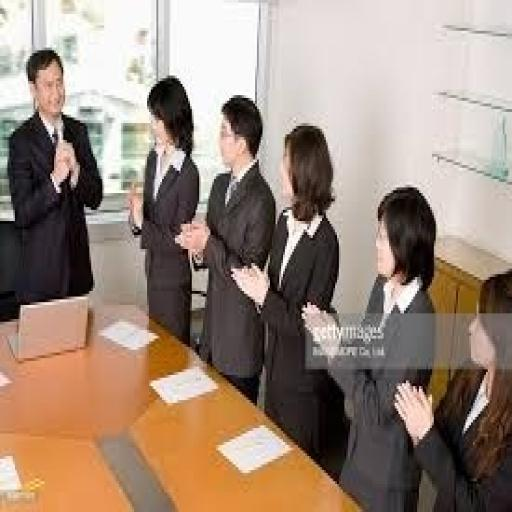clapping: (218, 169, 444, 453), (406, 132, 512, 512), (229, 120, 341, 456), (173, 92, 278, 406), (6, 45, 104, 305), (125, 73, 201, 347)
